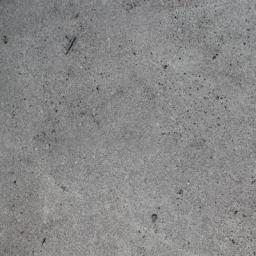FOD: (62, 34, 80, 57)
